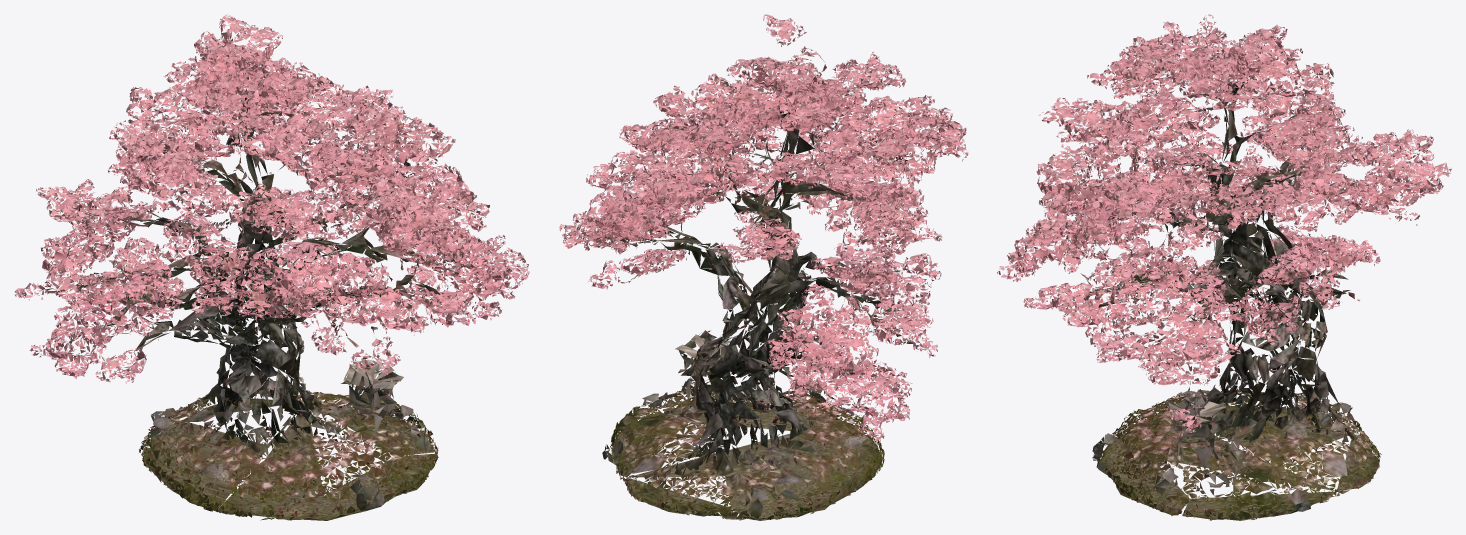
File: ciliegio.glb
3 views of the same model, side by side, from view 1: azimuth 30°, elevation 25°; view 2: azimuth 150°, elevation 25°; view 3: azimuth 270°, elevation 25° (orthographic). The views are drawn at different scales.
Parts seen in each view (by area): view 1: Mesh_0; view 2: Mesh_0; view 3: Mesh_0.
Part boxes in pixels (box(x1,y1,x2,y2)): Mesh_0: box(14, 14, 529, 520); Mesh_0: box(559, 14, 968, 520); Mesh_0: box(997, 14, 1451, 520).
Size of the model in its own units: 1.87 by 1.83 by 1.8.
Materials: 1 (1 with a texture image).
